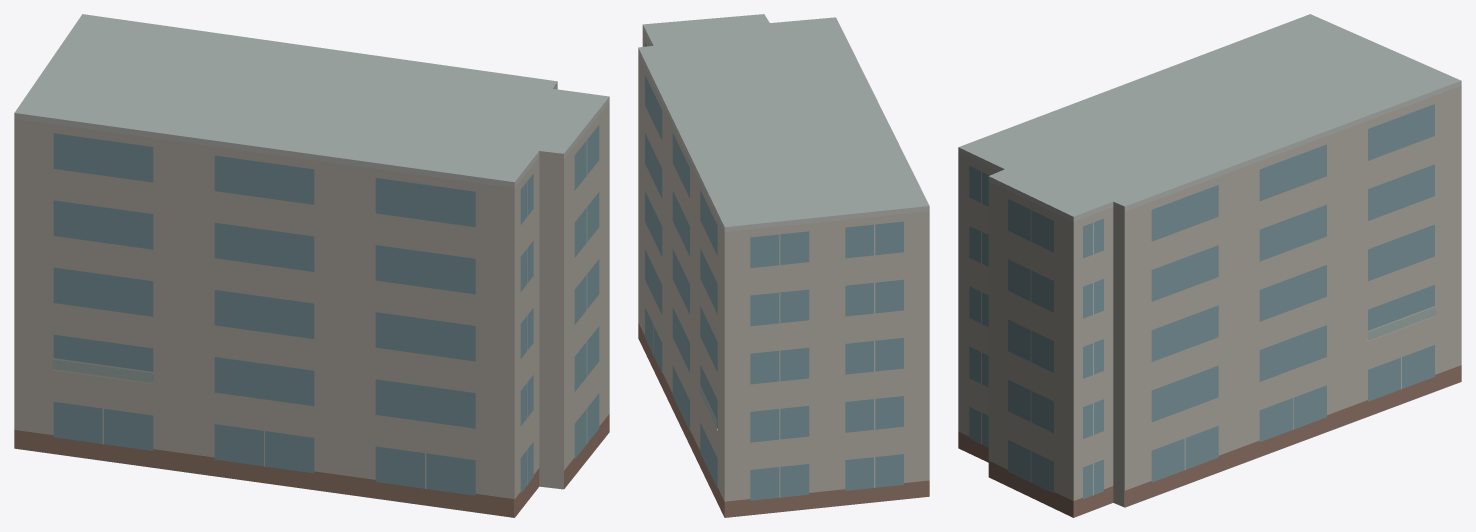
File: survey-upis-32956012.glb
The picture shows the model from 3 angles, left to right: view 1: azimuth 30°, elevation 25°; view 2: azimuth 150°, elevation 25°; view 3: azimuth 270°, elevation 25°; orthographic projection. The views are drawn at different scales.
Parts seen in each view (by area): view 1: survey-upis-32956012.tmp; view 2: survey-upis-32956012.tmp; view 3: survey-upis-32956012.tmp.
Part boxes in pixels (x1,y1,x2,y2): survey-upis-32956012.tmp: (14,14,609,517); survey-upis-32956012.tmp: (638,14,929,517); survey-upis-32956012.tmp: (958,14,1461,517).
Size of the model in its own units: 20.81 by 14.4 by 21.82.
